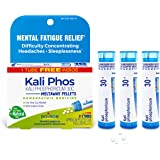Medicine: (4, 14, 97, 130), (118, 50, 140, 131), (96, 49, 117, 129), (141, 49, 159, 130)
